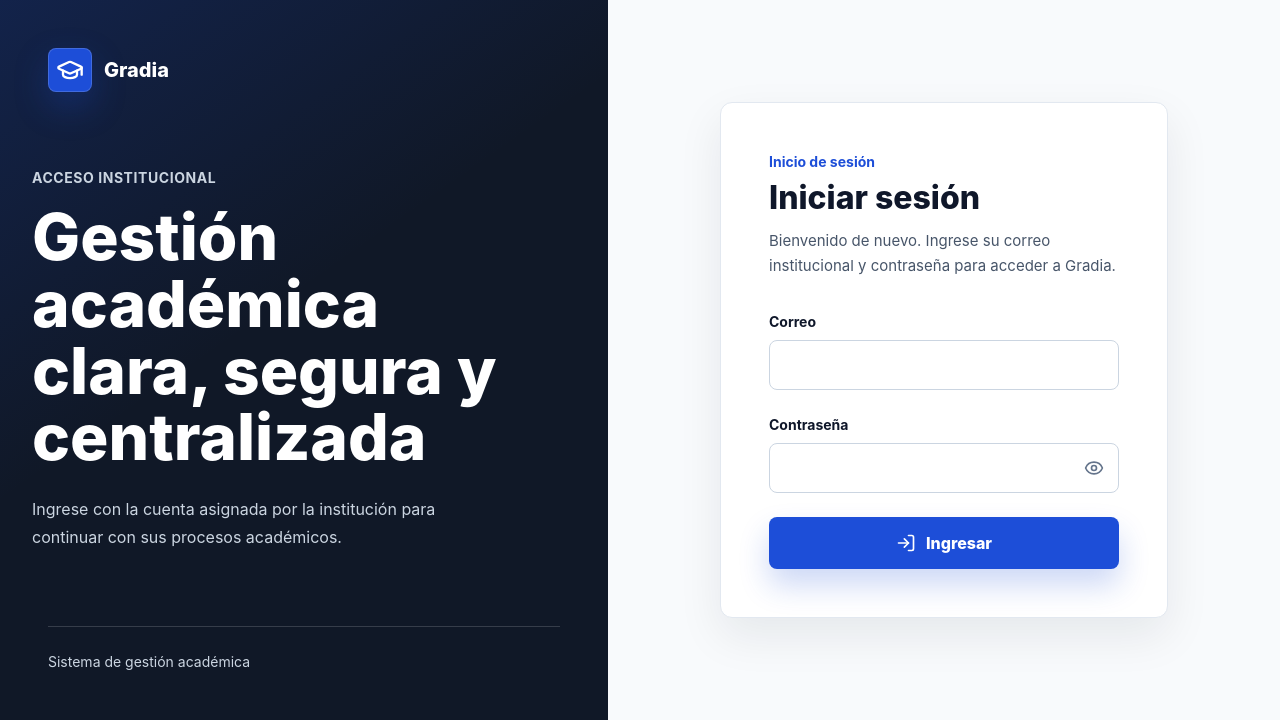
Test: página de inicio de sesión › valida un correo inválido
In the field labelled "Correo": (944, 365) [769, 340, 1119, 390], type "correo-invalido"
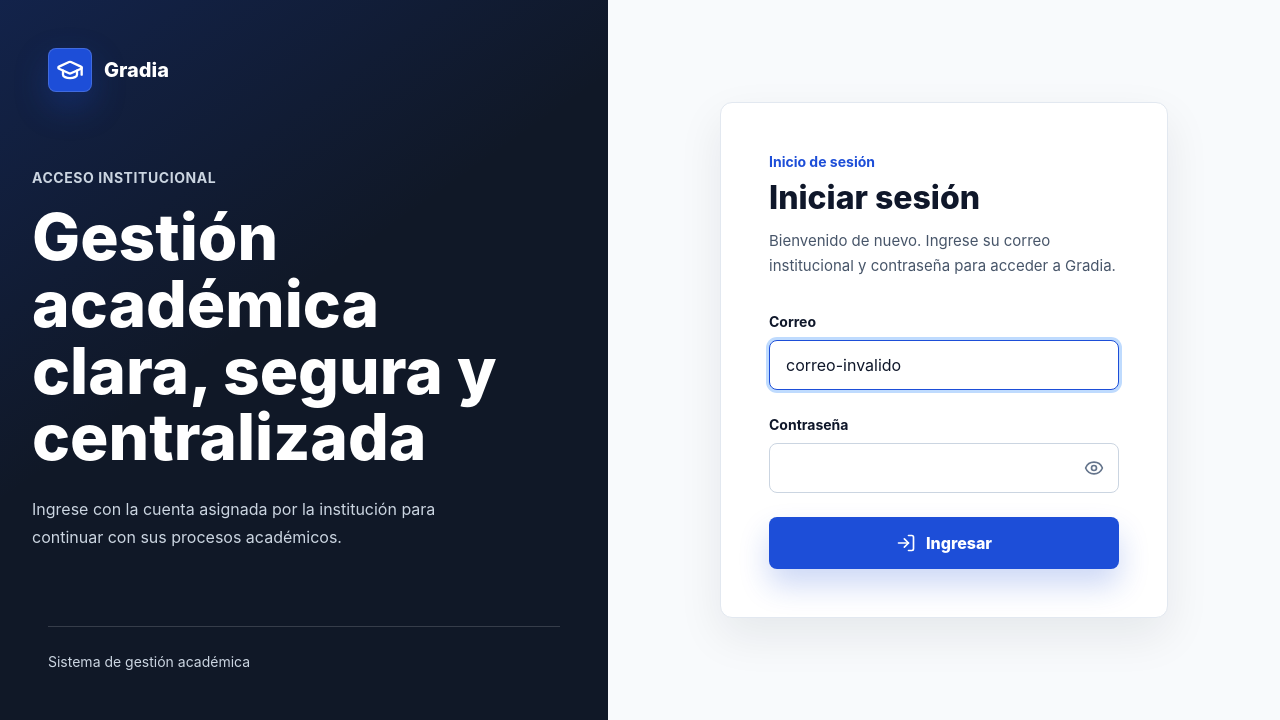
In the password field labelled "Contraseña": (944, 468) [769, 443, 1119, 493], type "valor"
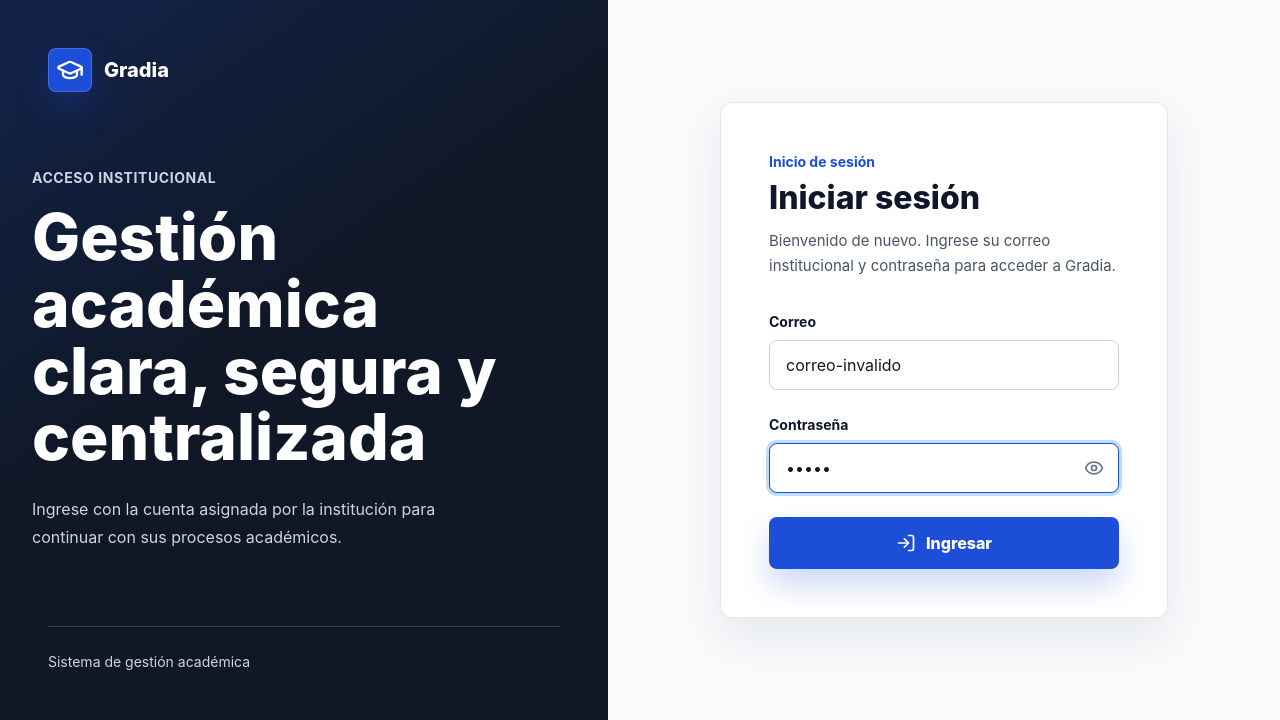
Click the button "Ingresar": (944, 543) [769, 517, 1119, 569]
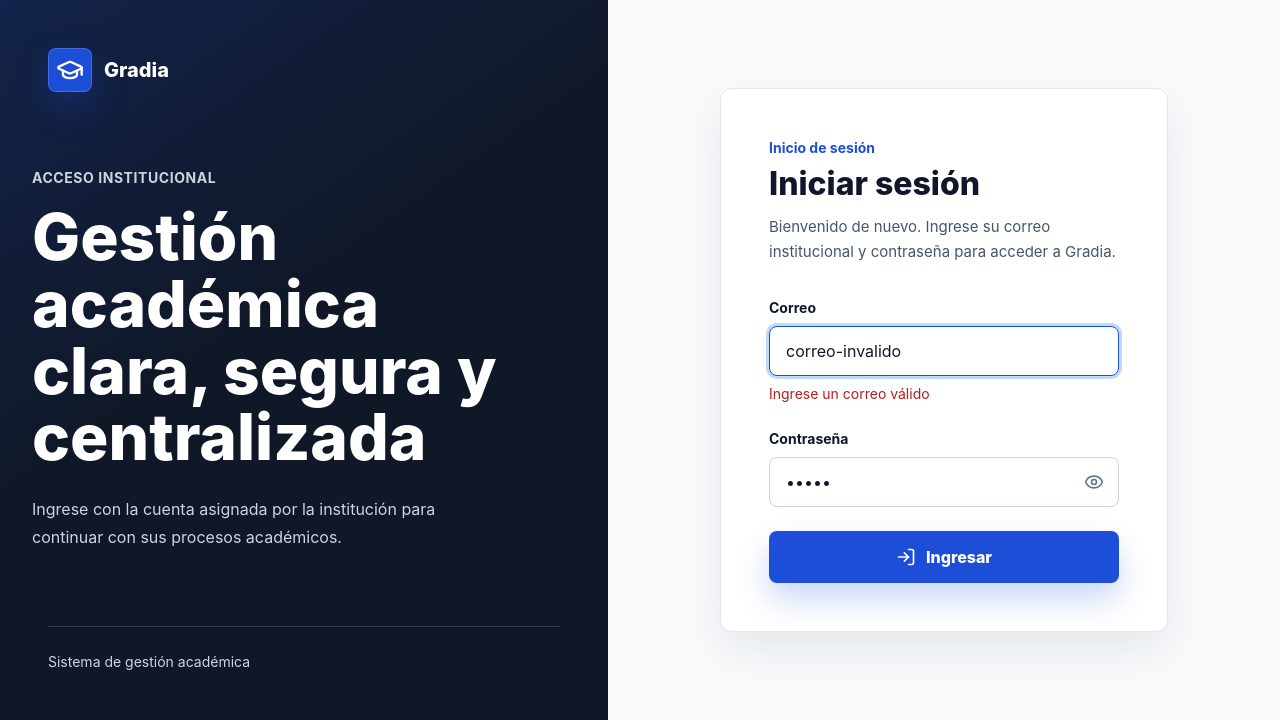
Expected: the text "Ingrese un correo válido" is shown, [769, 384, 930, 402]
